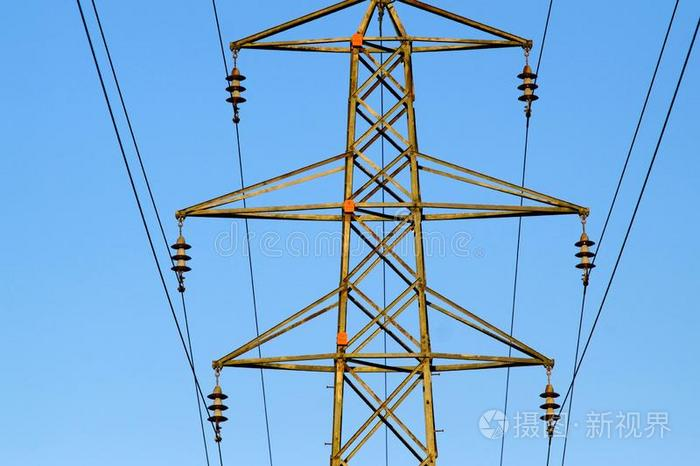insulator: (572, 237, 598, 273), (167, 240, 192, 273), (223, 74, 249, 104), (516, 72, 541, 103), (540, 391, 564, 423), (207, 390, 229, 423)
